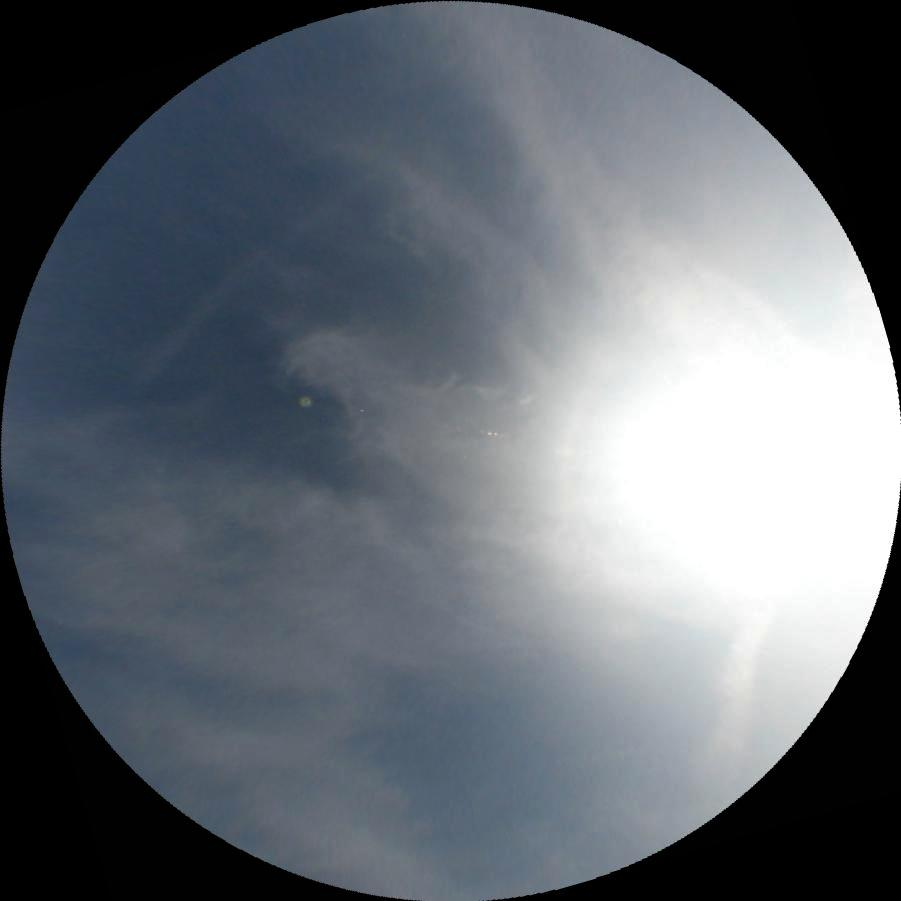contrail veryold: (116, 170, 363, 393), (689, 608, 773, 815)
sun: (613, 340, 852, 577)
